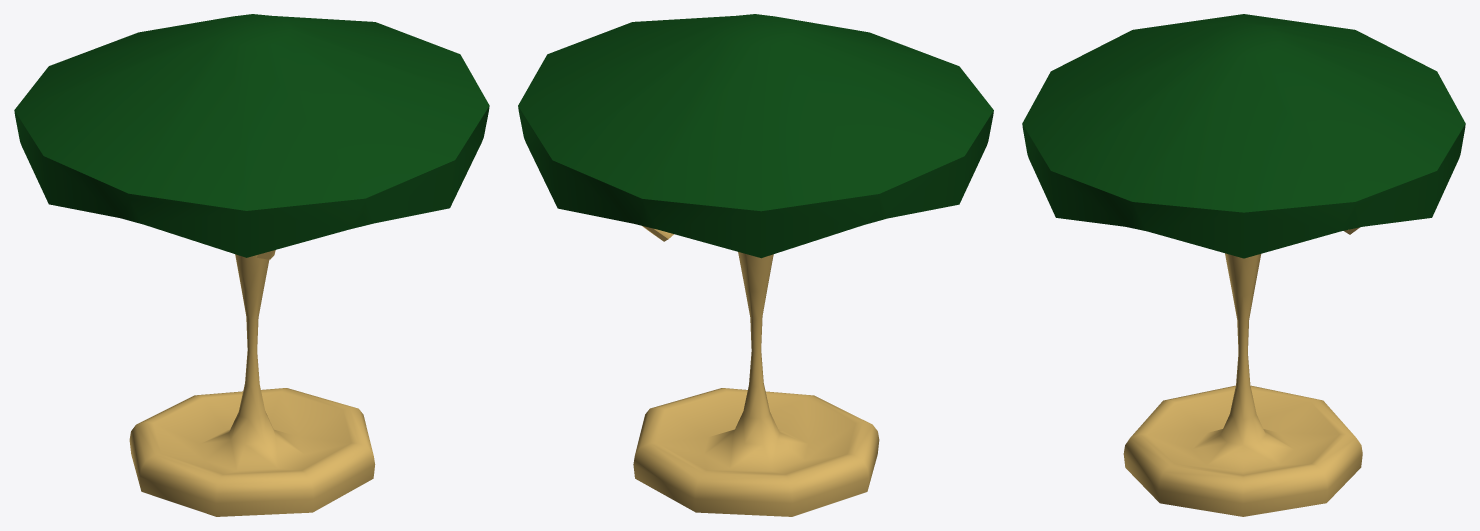
File: MiscLamp.fbx
3 views of the same model, side by side, from view 1: azimuth 30°, elevation 25°; view 2: azimuth 150°, elevation 25°; view 3: azimuth 270°, elevation 25° (orthographic). The views are drawn at different scales.
Parts seen in each view (by area): view 1: LampUVd:polySurface24; view 2: LampUVd:polySurface24; view 3: LampUVd:polySurface24.
Boxes of the visible parts, <box> form: LampUVd:polySurface24: <box>14,14,489,516</box>; LampUVd:polySurface24: <box>518,14,993,516</box>; LampUVd:polySurface24: <box>1022,14,1465,516</box>.
Size of the model in its own units: 92.29 by 93.1 by 87.06.
